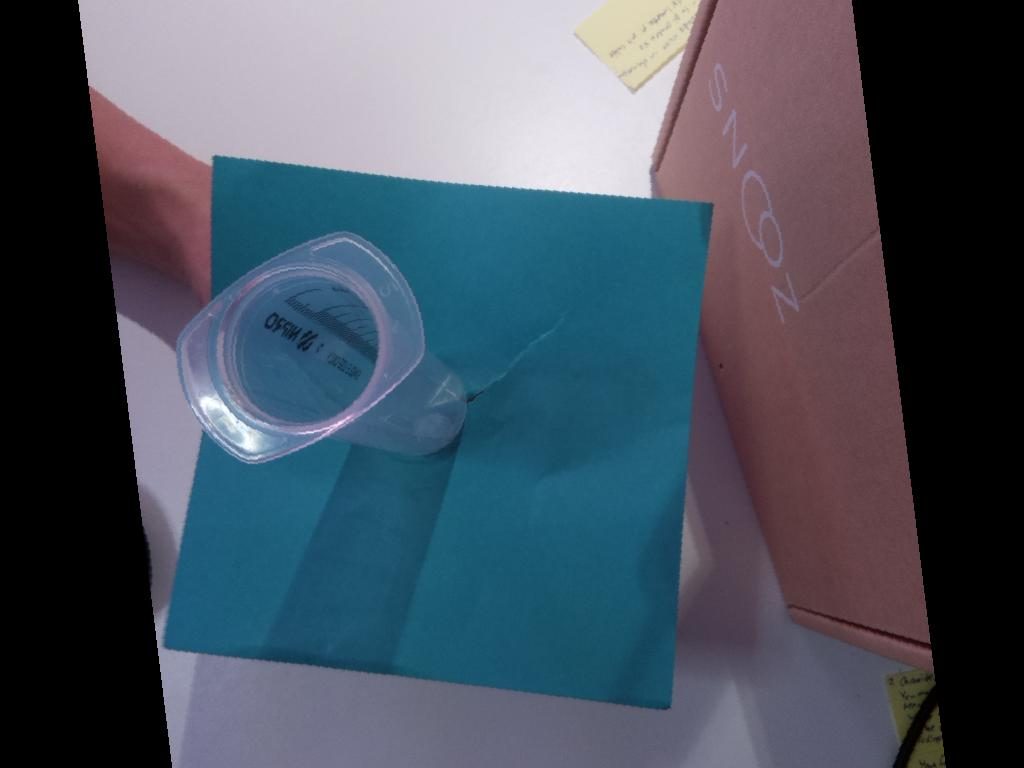clean: (174, 232, 425, 465)
